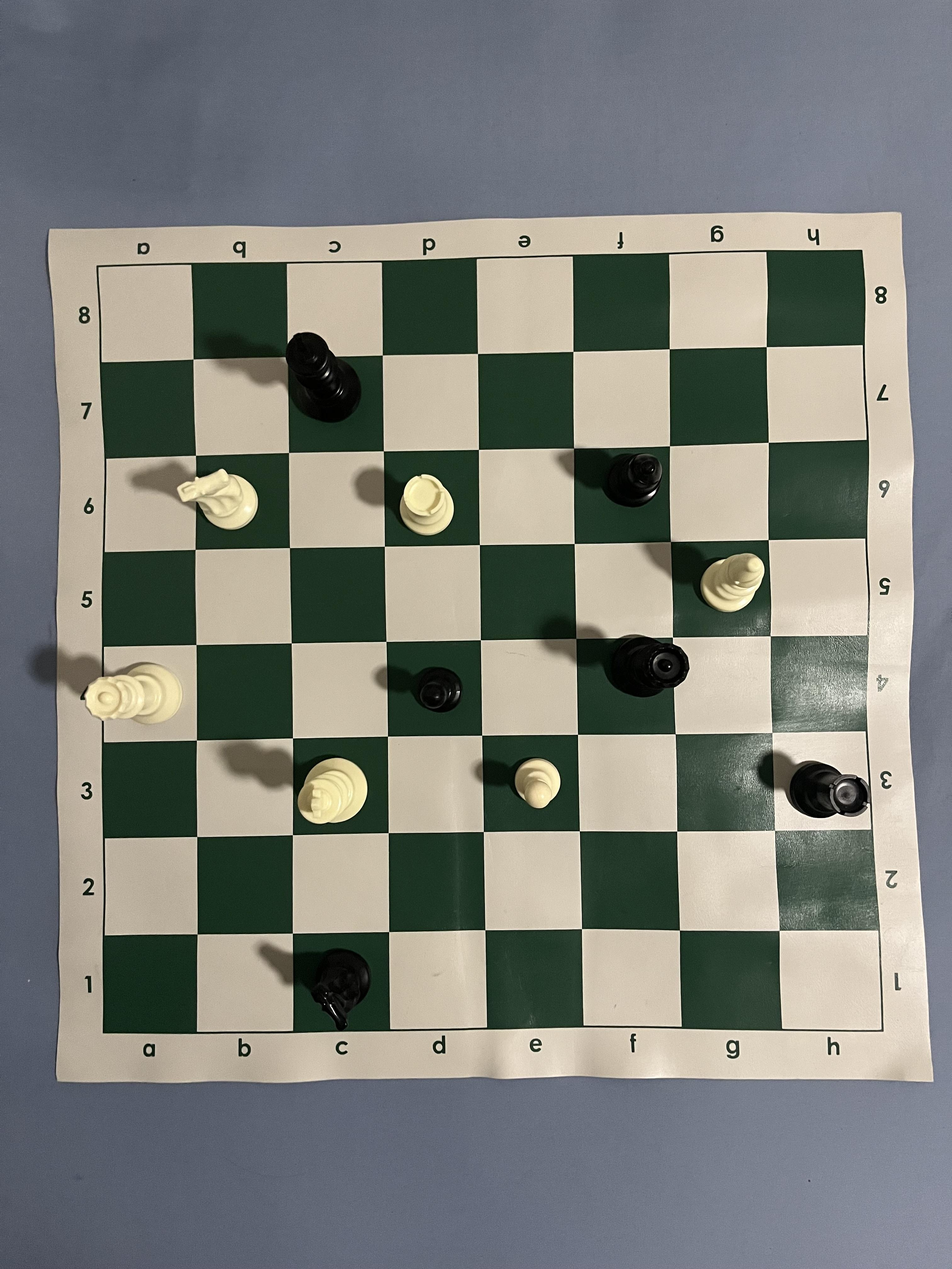black_bishop: (604, 452, 663, 509)
black_king: (286, 331, 362, 423)
black_knight: (307, 947, 372, 1032)
black_pawn: (408, 665, 463, 714)
black_queen: (608, 633, 690, 699)
black_rook: (790, 760, 873, 819)
white_bishop: (700, 552, 766, 613)
white_king: (298, 757, 368, 826)
white_knight: (177, 468, 259, 530)
white_pawn: (513, 757, 562, 810)
white_queen: (83, 662, 185, 725)
white_rook: (399, 473, 454, 535)
